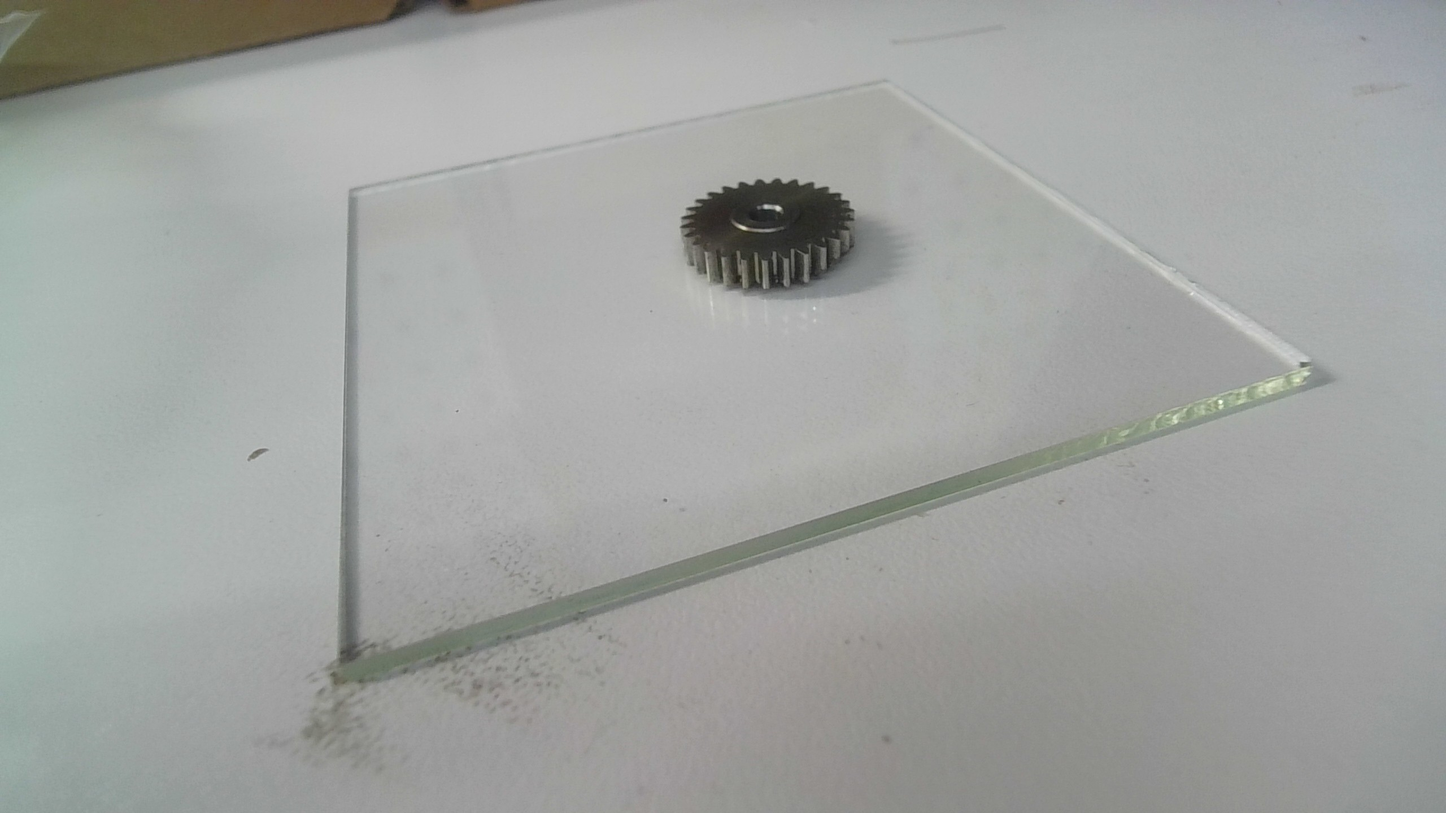gear: (677, 172, 859, 294)
